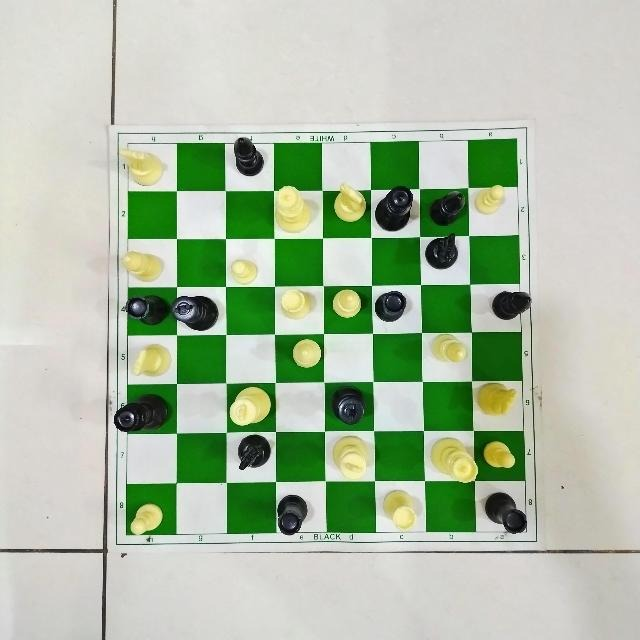black-bishop: (488, 281, 533, 330), (226, 136, 269, 175), (430, 192, 468, 228)
black-king: (169, 294, 221, 330), (329, 382, 370, 427)
black-knight: (233, 432, 273, 472), (422, 235, 465, 271)
black-queen: (114, 392, 172, 438), (373, 185, 421, 237)
black-rook: (482, 486, 528, 540), (120, 289, 172, 335), (269, 487, 310, 535), (373, 286, 415, 332)
white-bishop: (425, 330, 477, 370), (283, 334, 328, 378), (117, 247, 169, 283), (327, 285, 363, 321)
white-king: (327, 431, 379, 483), (227, 382, 273, 427)
white-knight: (117, 141, 165, 191), (471, 378, 519, 422), (128, 337, 174, 382), (328, 182, 371, 228)
white-pawn: (128, 494, 172, 540), (481, 432, 520, 474), (225, 251, 263, 289), (475, 178, 509, 220)
white-queen: (426, 432, 484, 490), (268, 183, 316, 233)
white-rook: (378, 484, 422, 532), (280, 286, 314, 320)
